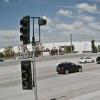Traffic light: (15, 10, 52, 50)
